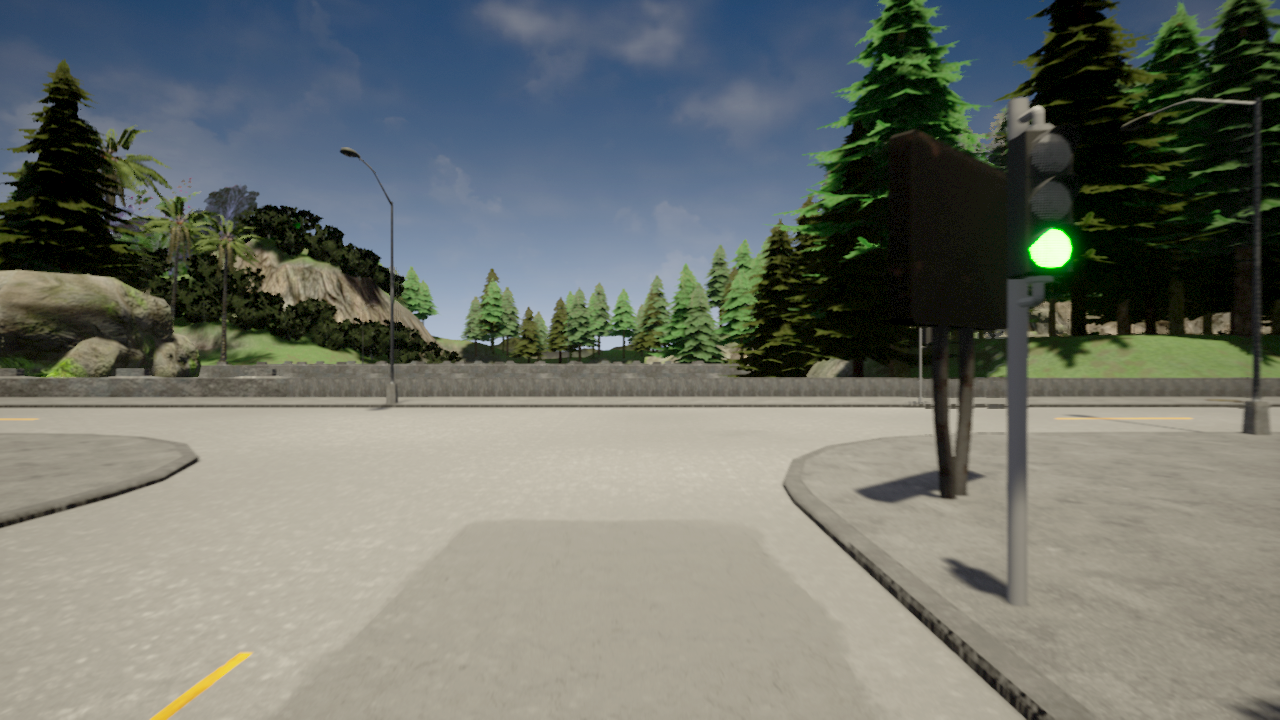green: (1008, 130, 1080, 275)
